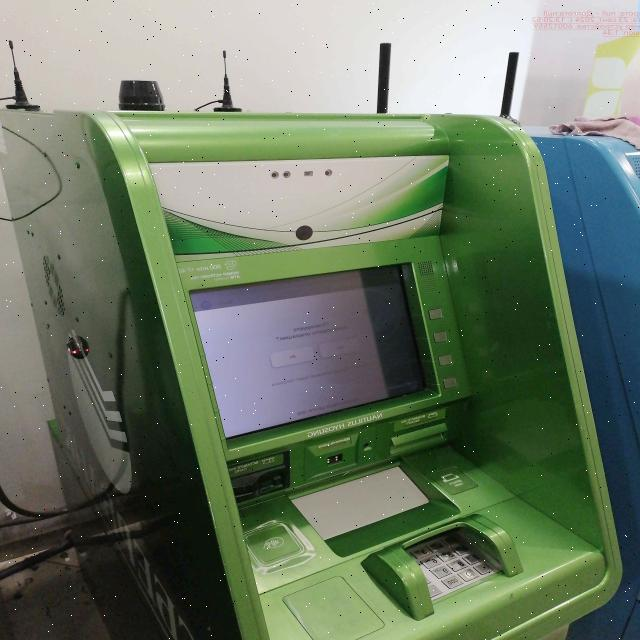bank: (0, 110, 623, 640)
